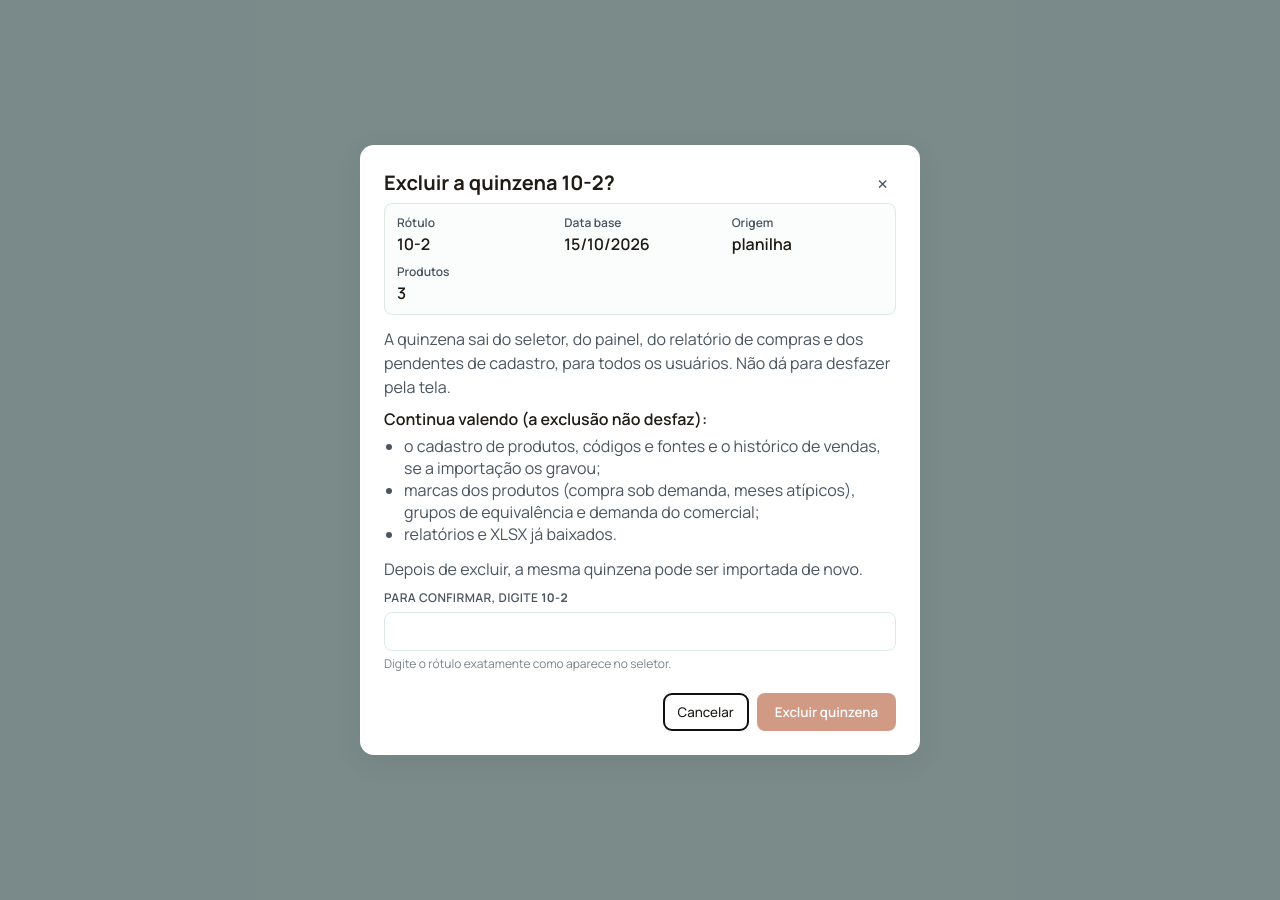
Test: ForecastExcluirQuinzenaModal › erro 404: alerta, dialogo aberto e a lista de quinzenas e invalidada
Type "10-2" into the field labelled "Para confirmar, digite 10-2".
click(640, 632); type("10-2")  # box 384,612 -> 896,651
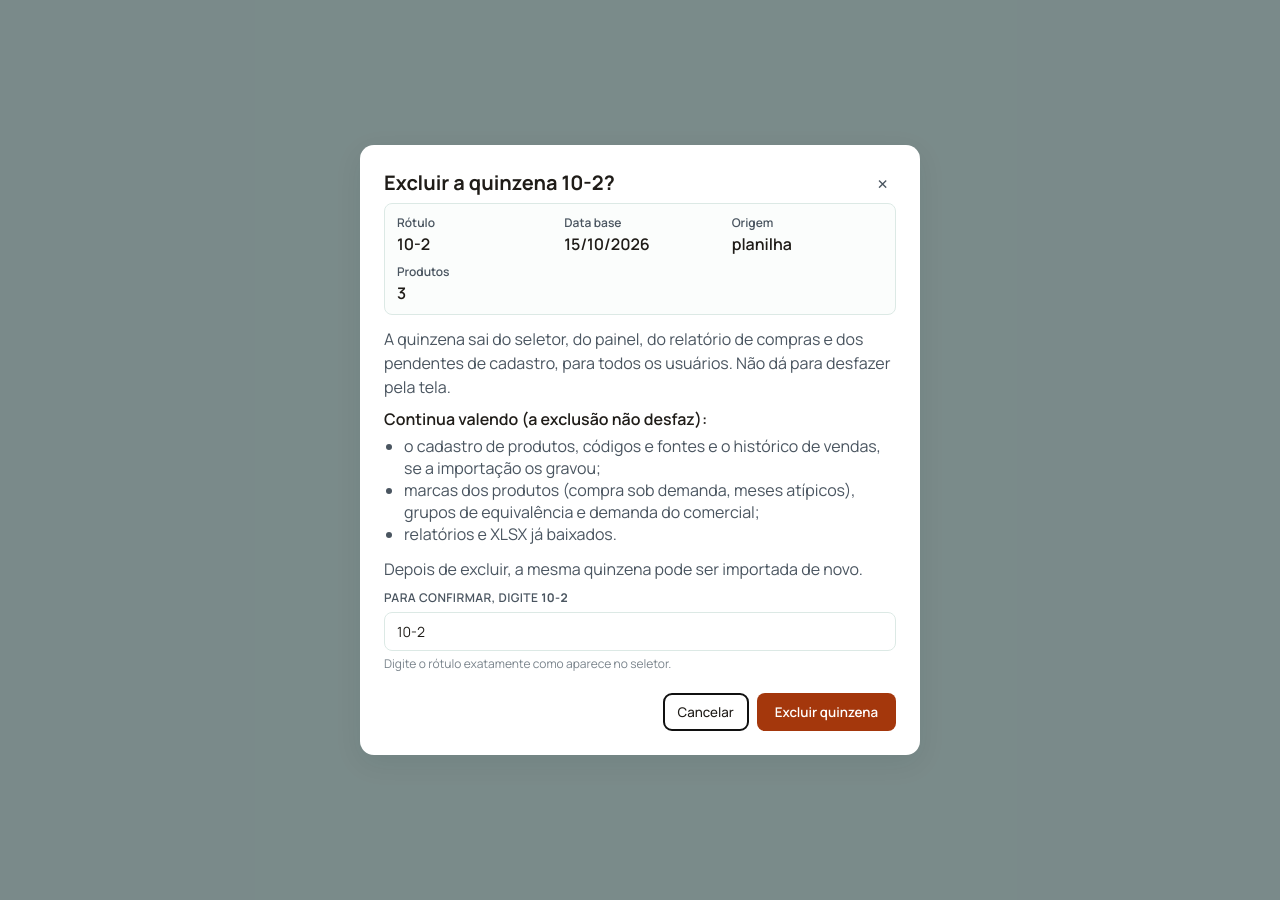
Click the button "Excluir quinzena".
click(826, 712)  # box 757,693 -> 896,731
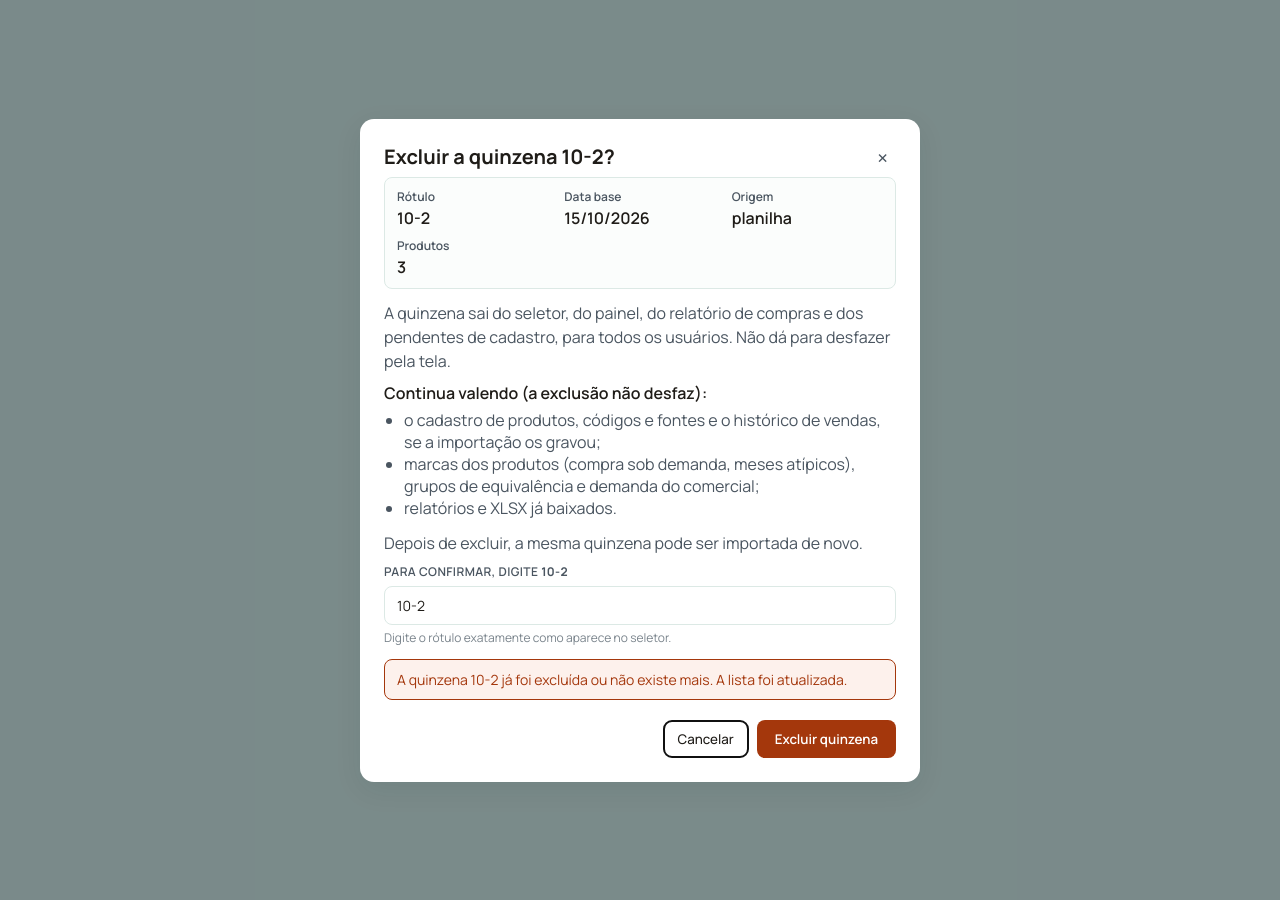
Expected: the message reads "A quinzena 10-2 já foi excluída ou não existe mais. A lista foi atualizada.", 397,670 -> 847,688
